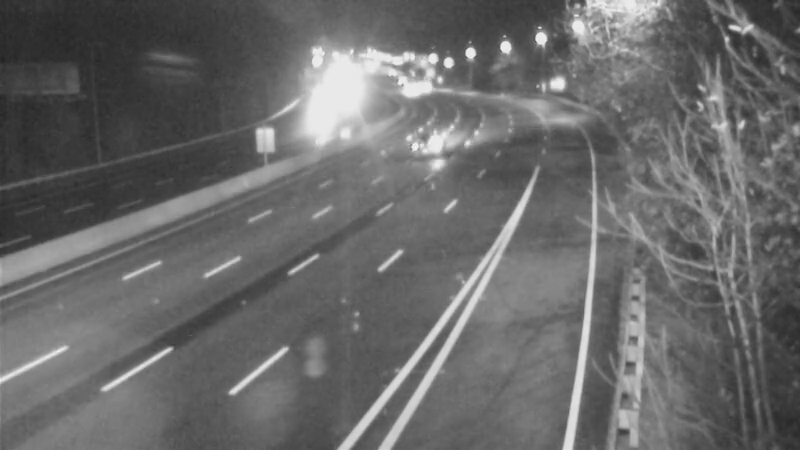vehicle: (381, 65, 431, 115), (398, 120, 448, 170)
